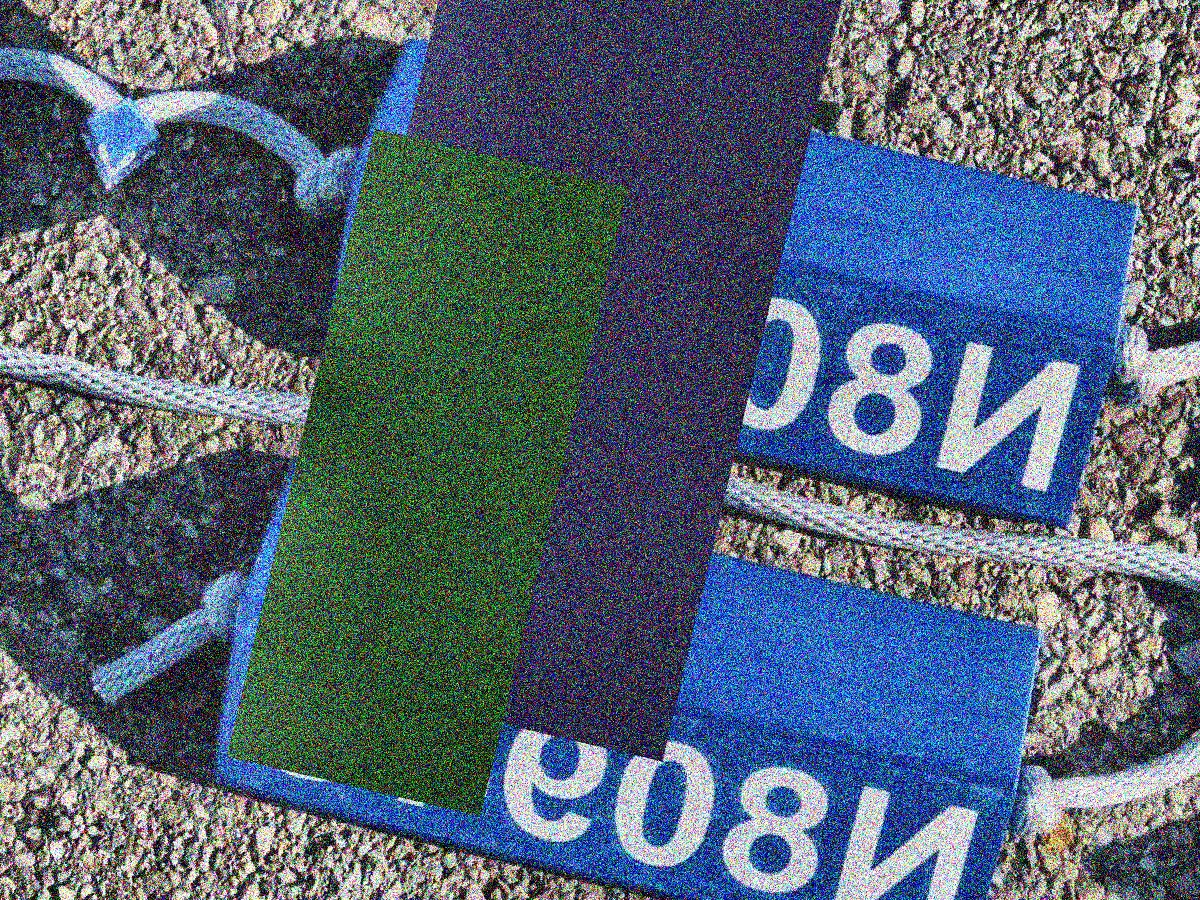chock: (316, 21, 1157, 537), (197, 437, 1061, 900)
